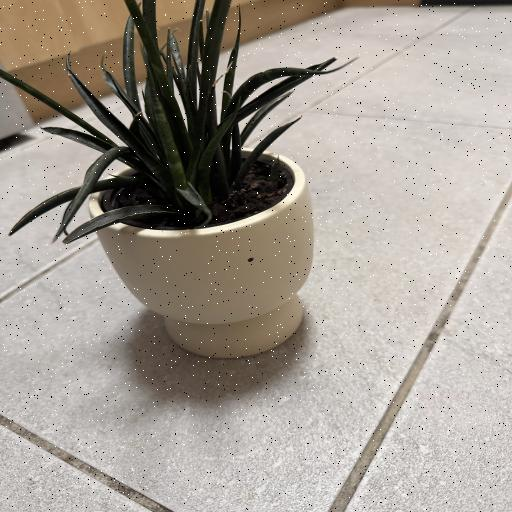Plant Pot: (87, 145, 330, 358)
